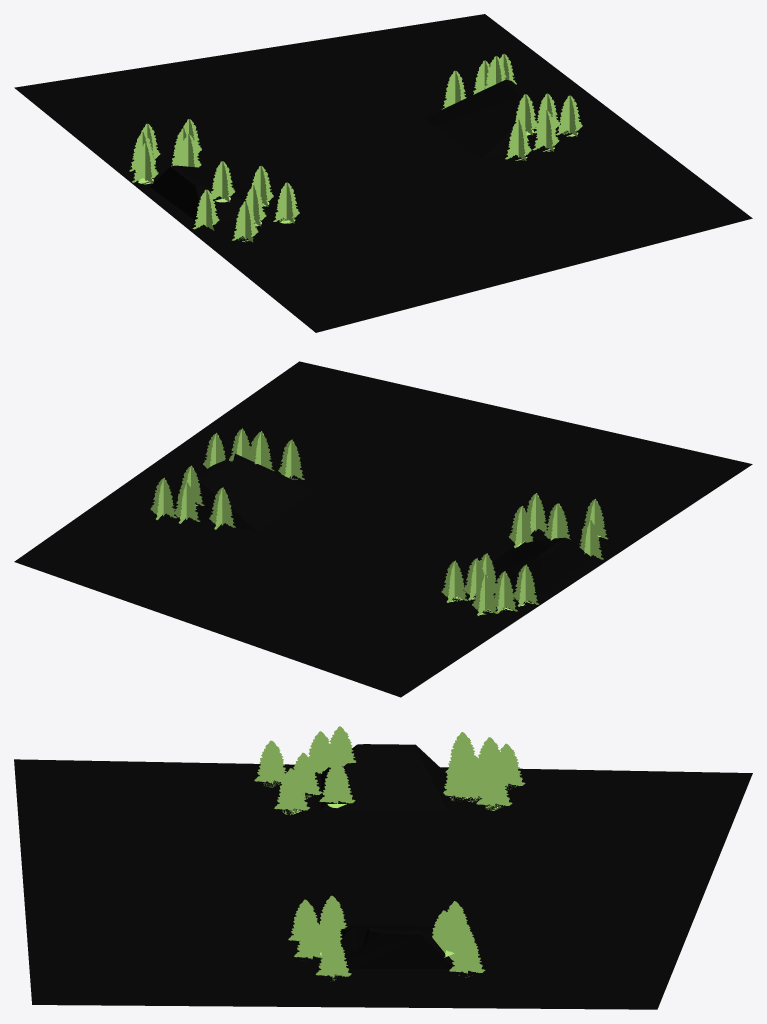
The model's file is bridge2_environment.obj.
3 views of the same model, one above another, from view 1: azimuth 30°, elevation 25°; view 2: azimuth 150°, elevation 25°; view 3: azimuth 270°, elevation 25° (orthographic). The views are drawn at different scales.
Visible parts, largest first — view 1: mesh_0, mesh_2, mesh_11, mesh_19, mesh_6, mesh_8, mesh_14, mesh_17, mesh_12, mesh_16, mesh_18, mesh_21; view 2: mesh_0, mesh_4, mesh_2, mesh_3, mesh_18, mesh_1, mesh_9, mesh_20, mesh_14, mesh_7, mesh_12, mesh_8 (+2 smaller); view 3: mesh_0, mesh_4, mesh_11, mesh_7, mesh_19, mesh_6, mesh_9, mesh_8, mesh_13, mesh_5, mesh_3, mesh_10 (+6 smaller).
Part boxes in pixels (bbox=[...]): mesh_0: bbox=[14, 14, 752, 332]; mesh_2: bbox=[132, 143, 158, 184]; mesh_11: bbox=[273, 182, 299, 223]; mesh_19: bbox=[557, 95, 582, 136]; mesh_6: bbox=[232, 201, 258, 242]; mesh_8: bbox=[211, 161, 235, 202]; mesh_14: bbox=[505, 119, 531, 160]; mesh_17: bbox=[532, 110, 559, 151]; mesh_12: bbox=[192, 189, 219, 230]; mesh_16: bbox=[514, 94, 537, 135]; mesh_18: bbox=[441, 70, 466, 109]; mesh_21: bbox=[177, 134, 201, 167]; mesh_0: bbox=[14, 361, 752, 697]; mesh_4: bbox=[441, 560, 468, 602]; mesh_2: bbox=[513, 564, 539, 606]; mesh_3: bbox=[472, 573, 498, 615]; mesh_18: bbox=[209, 487, 235, 529]; mesh_1: bbox=[493, 571, 517, 612]; mesh_9: bbox=[150, 477, 177, 519]; mesh_20: bbox=[174, 481, 200, 523]; mesh_14: bbox=[278, 439, 304, 479]; mesh_7: bbox=[508, 506, 533, 548]; mesh_12: bbox=[579, 519, 603, 559]; mesh_8: bbox=[544, 503, 568, 540]; mesh_0: bbox=[14, 744, 752, 1009]; mesh_4: bbox=[476, 763, 512, 810]; mesh_11: bbox=[274, 768, 309, 814]; mesh_7: bbox=[319, 761, 355, 808]; mesh_19: bbox=[315, 934, 351, 980]; mesh_6: bbox=[254, 740, 286, 787]; mesh_9: bbox=[449, 930, 485, 977]; mesh_8: bbox=[323, 726, 356, 767]; mesh_13: bbox=[432, 910, 458, 957]; mesh_5: bbox=[458, 756, 486, 802]; mesh_3: bbox=[495, 743, 525, 790]; mesh_10: bbox=[293, 752, 322, 798].
Size of the model in its own units: 150 by 17.1 by 187.
